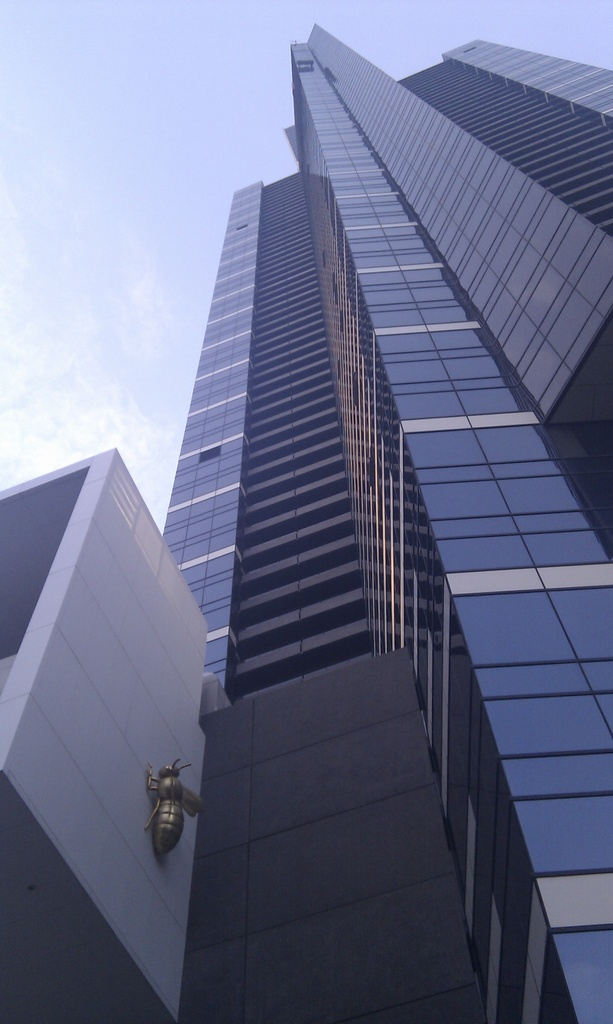Window: (197, 442, 222, 466)
